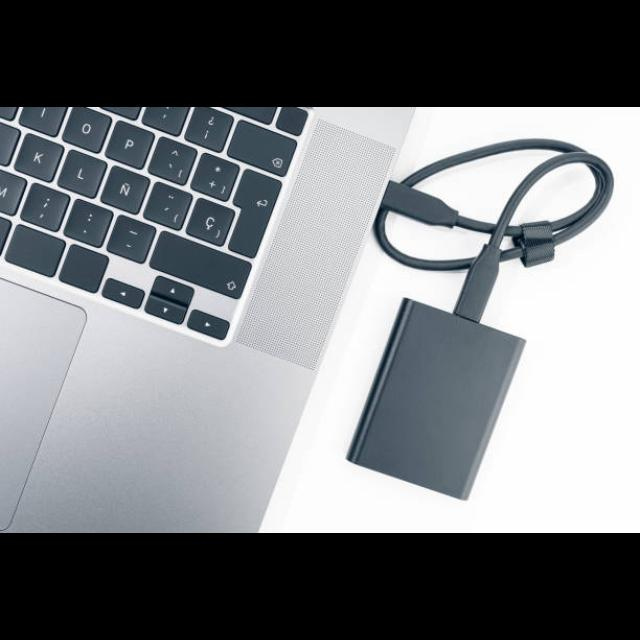HDD: (345, 299, 527, 503)
